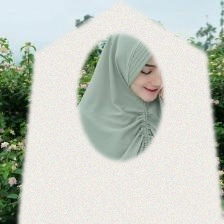Mukena: (14, 17, 224, 224)
